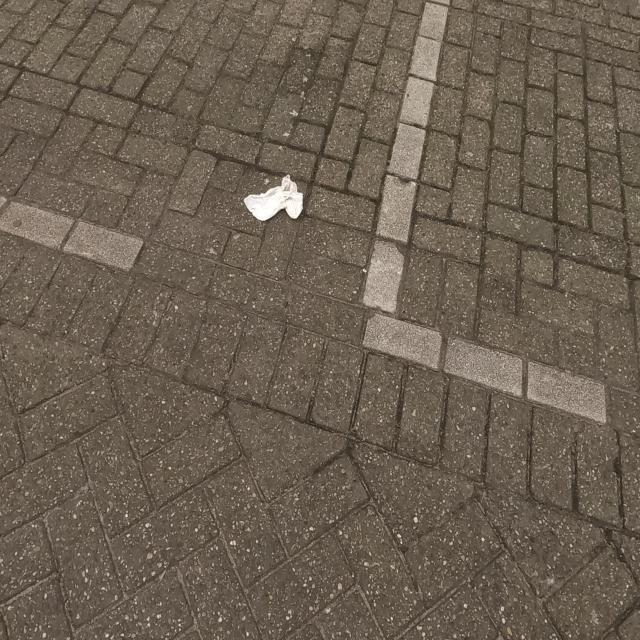Paper: (243, 172, 304, 222)
